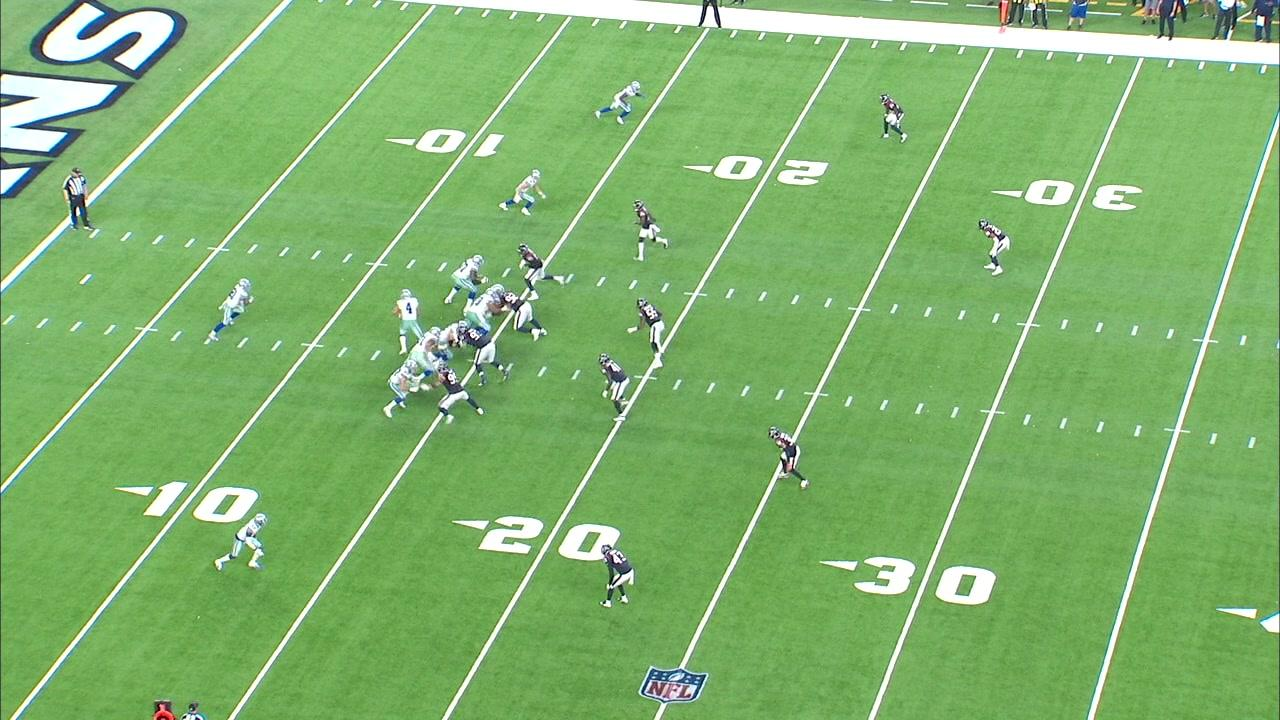player: (213, 511, 268, 573), (208, 275, 255, 342), (514, 244, 568, 302), (628, 297, 668, 371), (596, 353, 637, 425), (767, 426, 811, 492), (438, 367, 486, 426), (466, 328, 509, 386), (600, 543, 636, 611), (444, 250, 484, 309), (501, 293, 549, 342), (592, 80, 646, 122), (407, 328, 441, 393), (499, 168, 548, 213), (633, 200, 667, 262), (383, 359, 417, 418), (395, 288, 424, 355), (980, 218, 1011, 277), (880, 90, 908, 141), (467, 291, 504, 328), (438, 320, 468, 361), (478, 283, 509, 300)
ref: (64, 163, 92, 235)
